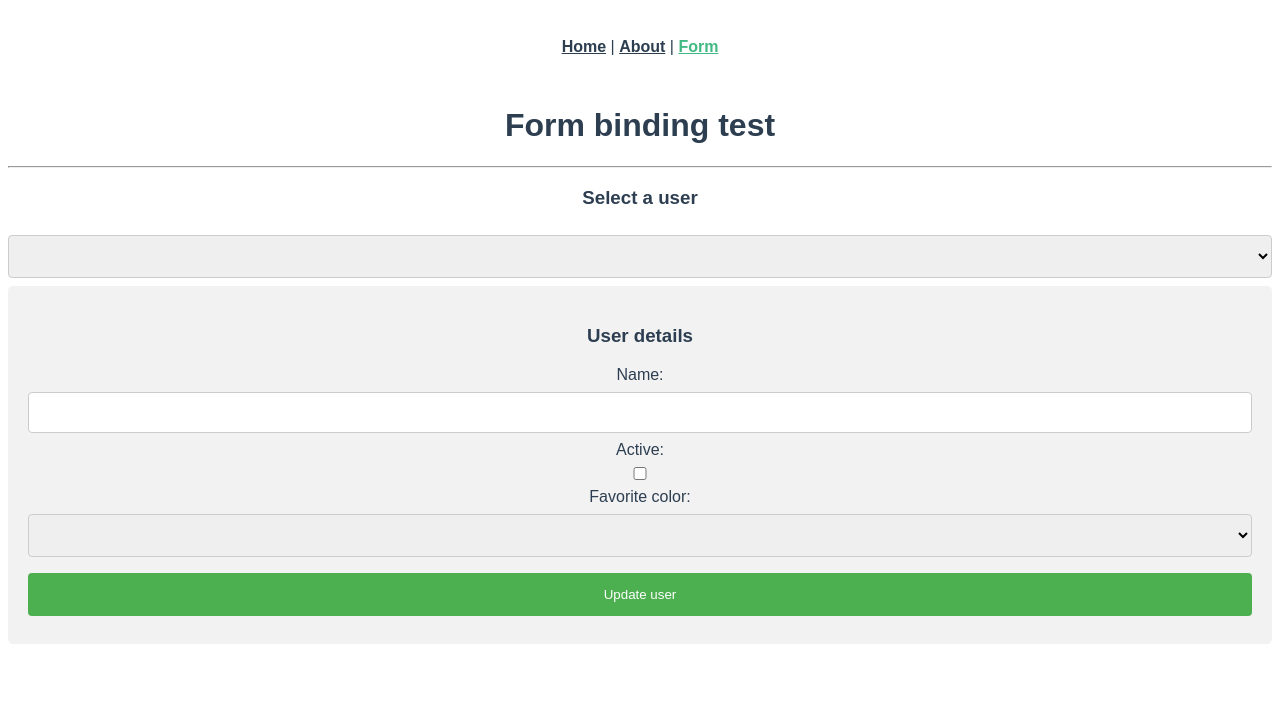
Test case: Form page › Selecting a user fills details form
The width and height of the screenshot is (1280, 720).
Select "Joe Dirt" in the dropdown with class "user-select" at [640, 257], box [8, 235, 1272, 278]
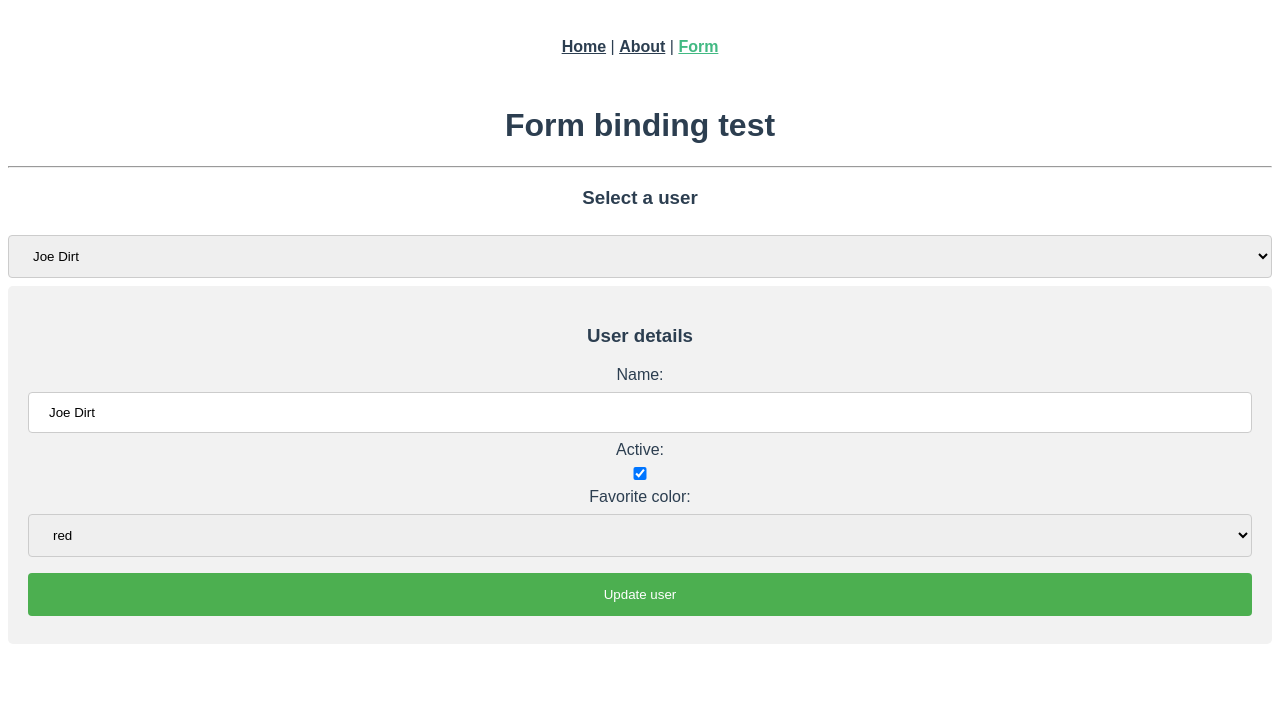
Expected: the field with id "userName" holds "Joe Dirt", [28, 392, 1252, 433]
